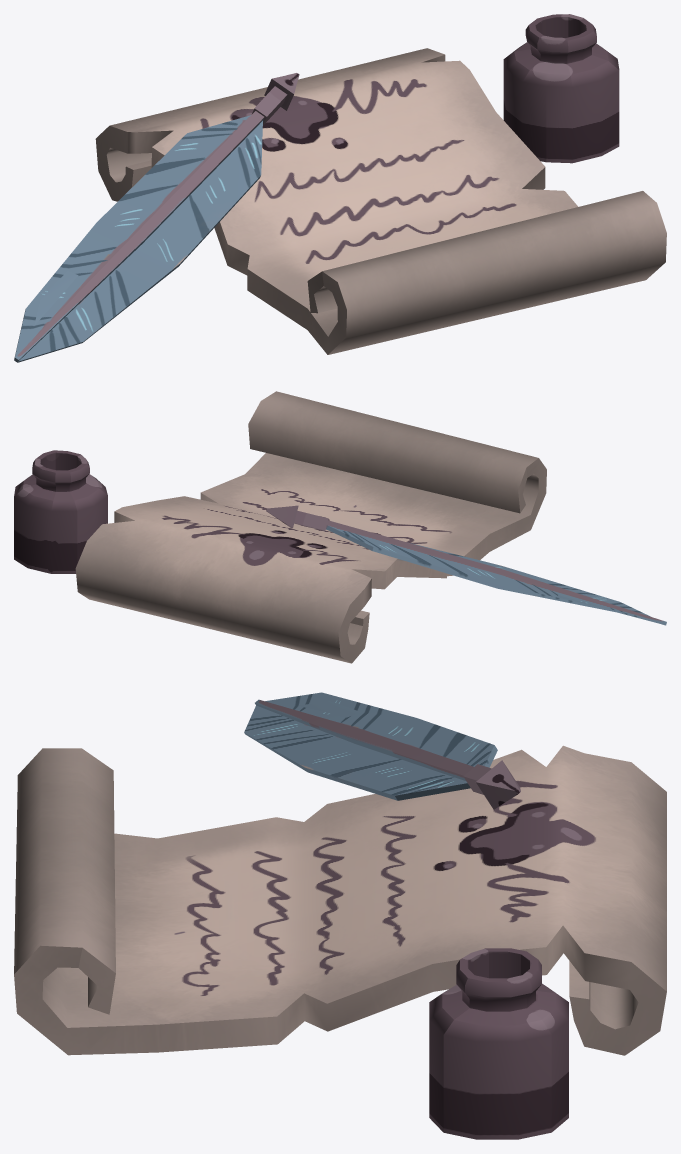
File: mysterious_letter.glb
3 views of the same model, one above another, from view 1: azimuth 30°, elevation 25°; view 2: azimuth 150°, elevation 25°; view 3: azimuth 270°, elevation 25° (orthographic). The views are drawn at different scales.
Parts seen in each view (by area): view 1: pCube12; view 2: pCube12; view 3: pCube12.
Boxes of the visible parts, x1=… form: pCube12: x1=14, y1=14, x2=666, y2=362; pCube12: x1=14, y1=391, x2=666, y2=663; pCube12: x1=14, y1=692, x2=666, y2=1139.
Bounding box in the file's own units: 127 × 23.07 × 81.17.
Materials: 1 (1 with a texture image).
